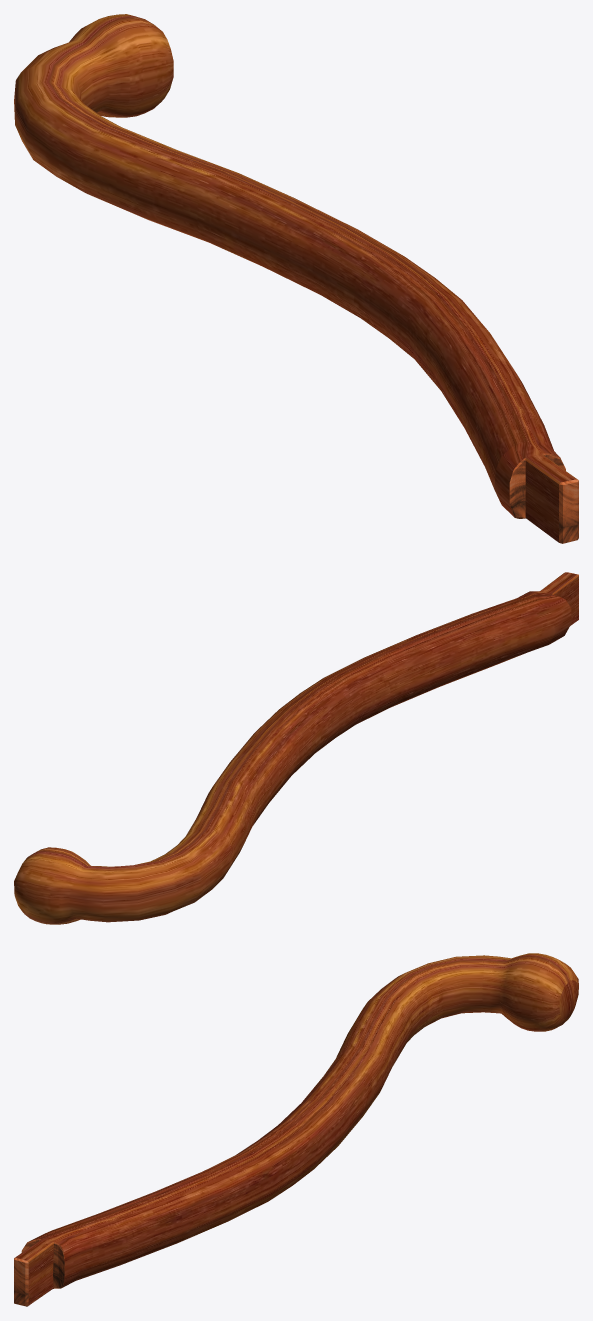
File: GMY_J_fushou_01.FBX
3 views of the same model, one above another, from view 1: azimuth 30°, elevation 25°; view 2: azimuth 150°, elevation 25°; view 3: azimuth 330°, elevation 25° (orthographic). The views are drawn at different scales.
Parts seen in each view (by area): view 1: GMY_J_fushou_01; view 2: GMY_J_fushou_01; view 3: GMY_J_fushou_01.
Part boxes in pixels (left/top/right/bottom): GMY_J_fushou_01: left=14, top=14, right=578, bottom=543; GMY_J_fushou_01: left=14, top=572, right=578, bottom=924; GMY_J_fushou_01: left=14, top=953, right=578, bottom=1306.
Size of the model in its own units: 8.82 by 4.03 by 46.94.
